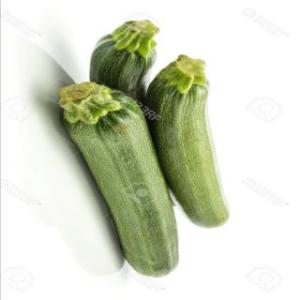zucchini: (38, 85, 184, 281)
